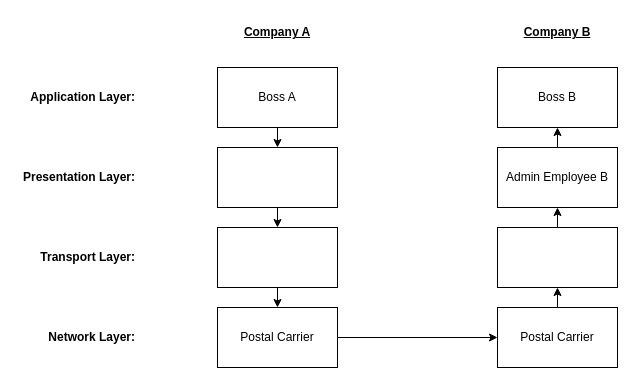
Some shapes in this 635 by 385 pixel diagram are drawn without their labels. The shapes that lost their labels are listed below. From the top down, each one's centre as x and y in pixels, then its label:
At point (277, 177): "Admin Employee A".
At point (277, 257): "Lawyer A".
At point (557, 257): "Lawyer B".
